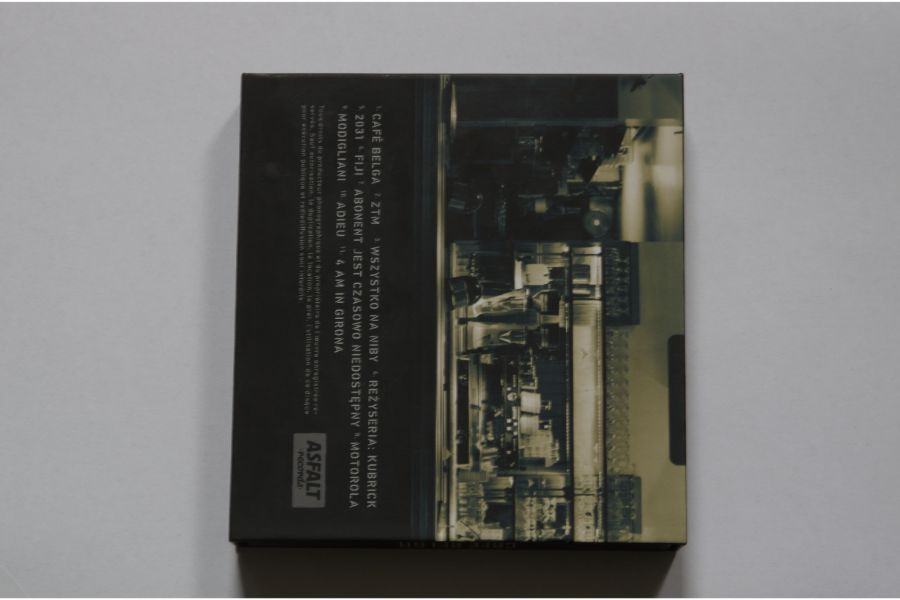album: (227, 70, 691, 553)
